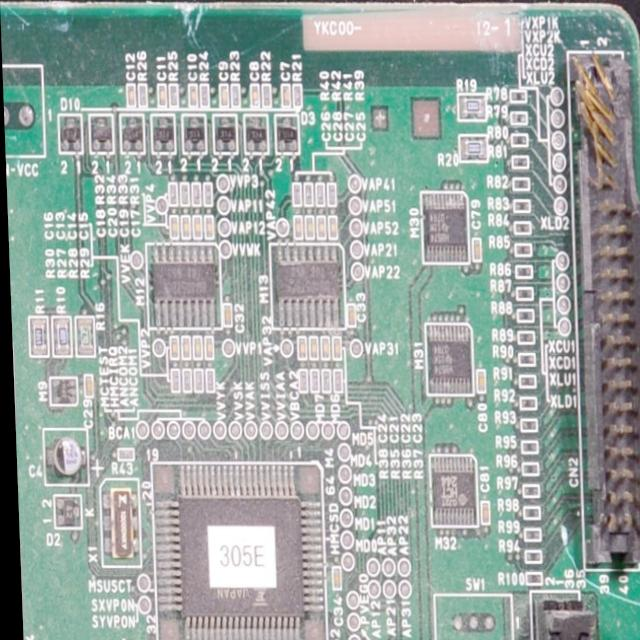IC: (150, 449, 307, 640)
capacitor: (156, 84, 171, 117), (476, 500, 493, 526), (79, 377, 96, 402), (279, 85, 294, 112), (220, 305, 233, 336), (165, 209, 177, 242), (474, 364, 483, 402), (191, 333, 202, 364), (217, 84, 230, 110), (192, 214, 204, 242), (296, 339, 308, 366), (187, 84, 199, 111), (290, 215, 301, 243), (165, 337, 177, 359), (469, 237, 479, 263), (307, 334, 317, 359), (179, 337, 189, 362), (203, 335, 213, 359), (291, 185, 301, 207), (303, 218, 313, 240), (127, 82, 135, 109), (316, 183, 326, 204), (328, 565, 336, 591), (250, 85, 259, 108), (181, 213, 189, 238), (316, 216, 324, 241), (328, 216, 336, 241), (344, 299, 352, 323), (203, 213, 210, 239), (319, 339, 328, 359), (328, 183, 334, 207), (331, 339, 338, 357), (305, 184, 310, 206)
resistor: (455, 130, 490, 171), (454, 92, 488, 120), (73, 316, 92, 360), (26, 318, 49, 352), (54, 311, 68, 356), (508, 394, 534, 410), (521, 480, 539, 501), (297, 368, 308, 401), (136, 82, 148, 112), (508, 88, 528, 106), (258, 86, 271, 112), (514, 419, 534, 435), (522, 575, 543, 589), (168, 86, 180, 110), (332, 370, 343, 395), (518, 440, 535, 455), (516, 372, 532, 387), (512, 202, 529, 215), (516, 288, 531, 302), (517, 530, 540, 539), (513, 140, 531, 151), (307, 370, 316, 392), (514, 176, 526, 192), (512, 113, 529, 124), (291, 85, 298, 111), (516, 311, 531, 323), (516, 332, 531, 344), (521, 554, 539, 564), (320, 367, 327, 391), (233, 88, 238, 113), (516, 266, 531, 274), (518, 226, 530, 235), (514, 251, 527, 258), (519, 357, 534, 363), (512, 160, 526, 165), (301, 89, 302, 91)
